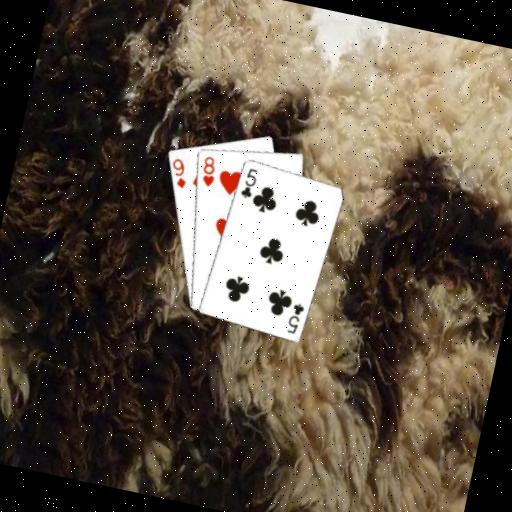5C: (236, 162, 260, 200), (282, 298, 306, 336)
8H: (195, 152, 220, 189)
9D: (164, 154, 192, 190)
